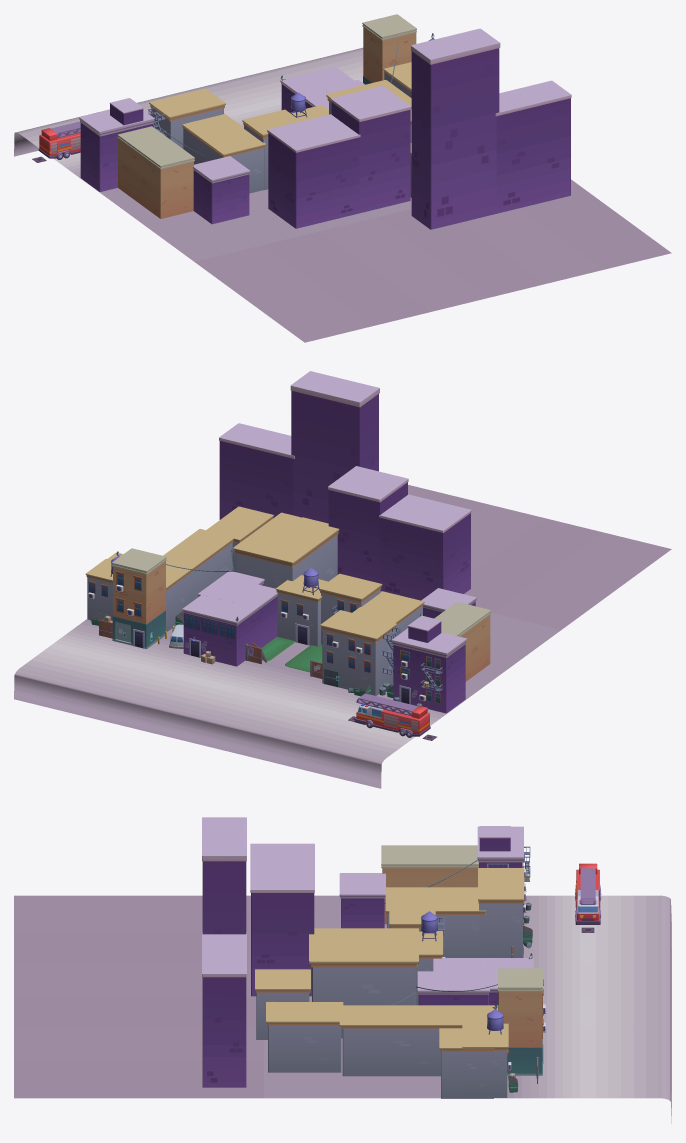
The model's file is city small.fbx.
The picture shows the model from 3 angles, top to bottom: view 1: azimuth 30°, elevation 25°; view 2: azimuth 150°, elevation 25°; view 3: azimuth 270°, elevation 25°; orthographic projection. The views are drawn at different scales.
Visible parts, largest first — view 1: Ground, Building_04c__1_, Building_04d, Building_04c_1, Building_04d__1_, Building_02b, Building_03c_2, Building_03c_1, Building_02d, Building_01b, Building_02b__1_, Building_01a__1_ (+7 smaller); view 2: Ground, Building_04c__1_, Building_04d, Building_04c_1, Building_04d__1_, Building_01c__4_, Building_01b, Building_03c_1, Building_03c, Building_02d, Building_01c__2_, Fire_Engine (+14 smaller); view 3: Ground, Building_01c__4_, Building_01c__2_, Building_04d__1_, Building_04c_1, Building_04c__1_, Building_01c__5_, Building_01b, Building_02d, Building_01, Building_01a, Building_03c_2 (+16 smaller).
Boxes of the visible parts, x1=… form: Ground: x1=14, y1=47, x2=671, y2=342; Building_04c__1_: x1=411, y1=28, x2=500, y2=229; Building_04d: x1=267, y1=114, x2=360, y2=228; Building_04c_1: x1=495, y1=80, x2=571, y2=213; Building_04d__1_: x1=330, y1=86, x2=411, y2=213; Building_02b: x1=137, y1=140, x2=194, y2=218; Building_03c_2: x1=193, y1=156, x2=250, y2=224; Building_03c_1: x1=79, y1=109, x2=154, y2=191; Building_02d: x1=362, y1=14, x2=416, y2=82; Building_01b: x1=149, y1=88, x2=225, y2=148; Building_02b__1_: x1=117, y1=126, x2=175, y2=204; Building_01a__1_: x1=204, y1=130, x2=266, y2=193; Ground: x1=14, y1=485, x2=671, y2=788; Building_04c__1_: x1=290, y1=371, x2=379, y2=523; Building_04d: x1=379, y1=494, x2=471, y2=600; Building_04c_1: x1=219, y1=423, x2=294, y2=519; Building_04d__1_: x1=328, y1=466, x2=408, y2=583; Building_01c__4_: x1=233, y1=512, x2=339, y2=588; Building_01b: x1=320, y1=610, x2=396, y2=695; Building_03c_1: x1=392, y1=628, x2=467, y2=713; Building_03c: x1=182, y1=595, x2=257, y2=666; Building_02d: x1=112, y1=548, x2=166, y2=623; Building_01c__2_: x1=163, y1=529, x2=234, y2=604; Fire_Engine: x1=354, y1=693, x2=430, y2=737; Ground: x1=14, y1=895, x2=671, y2=1123; Building_01c__4_: x1=309, y1=928, x2=418, y2=1038; Building_01c__2_: x1=339, y1=1005, x2=444, y2=1076; Building_04d__1_: x1=250, y1=861, x2=314, y2=996; Building_04c_1: x1=202, y1=932, x2=246, y2=1087; Building_04c__1_: x1=202, y1=817, x2=246, y2=934; Building_01c__5_: x1=266, y1=1002, x2=343, y2=1072; Building_01b: x1=478, y1=868, x2=524, y2=957; Building_02d: x1=498, y1=968, x2=542, y2=1047; Building_01: x1=462, y1=1023, x2=508, y2=1097; Building_01a: x1=425, y1=887, x2=486, y2=957; Building_03c_2: x1=339, y1=873, x2=385, y2=928.
Bounding box in the file's own units: 7639 × 3758 × 10012.
30 materials, 30 textured.
